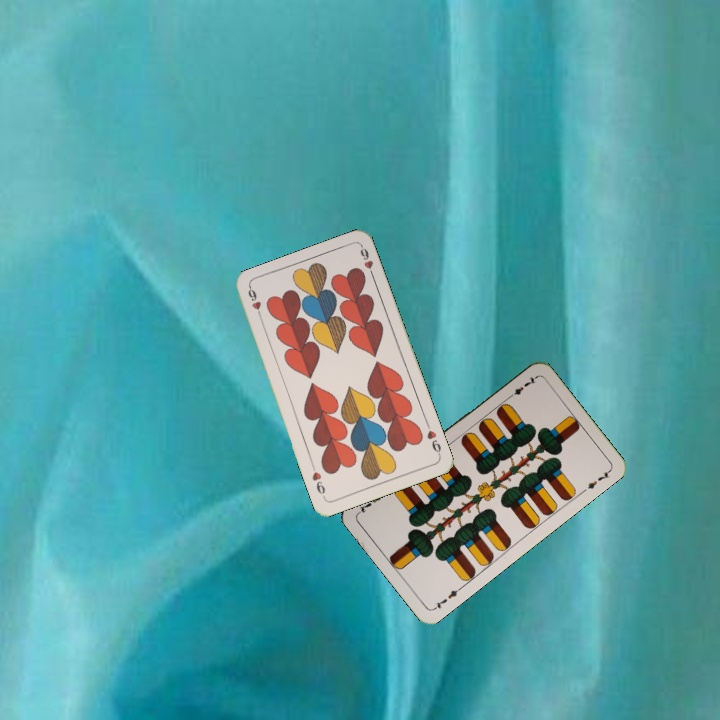E7: (504, 373, 539, 402), (430, 583, 464, 612)
H9: (423, 419, 444, 459), (244, 284, 265, 323)
